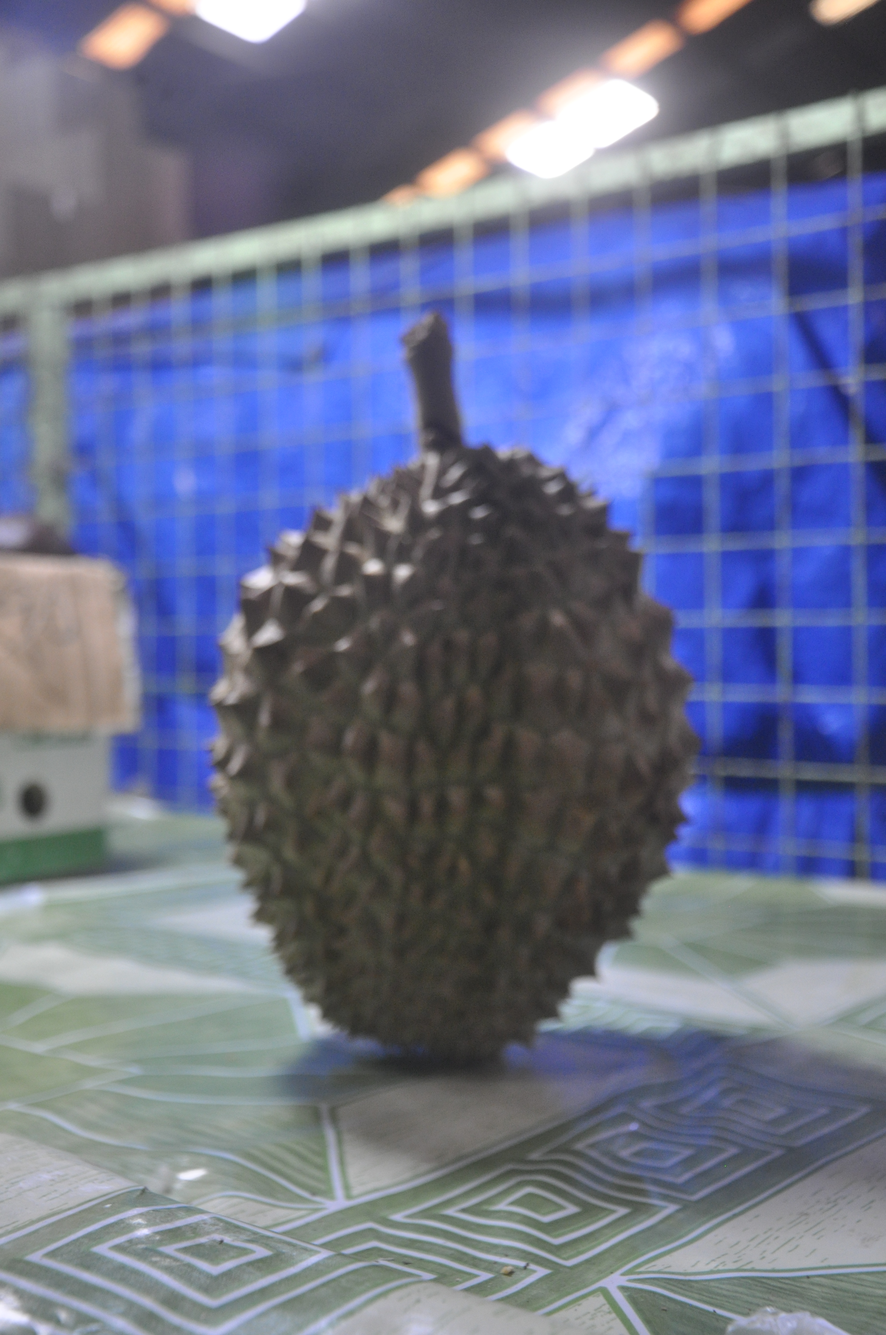mature: (213, 428, 695, 1058)
